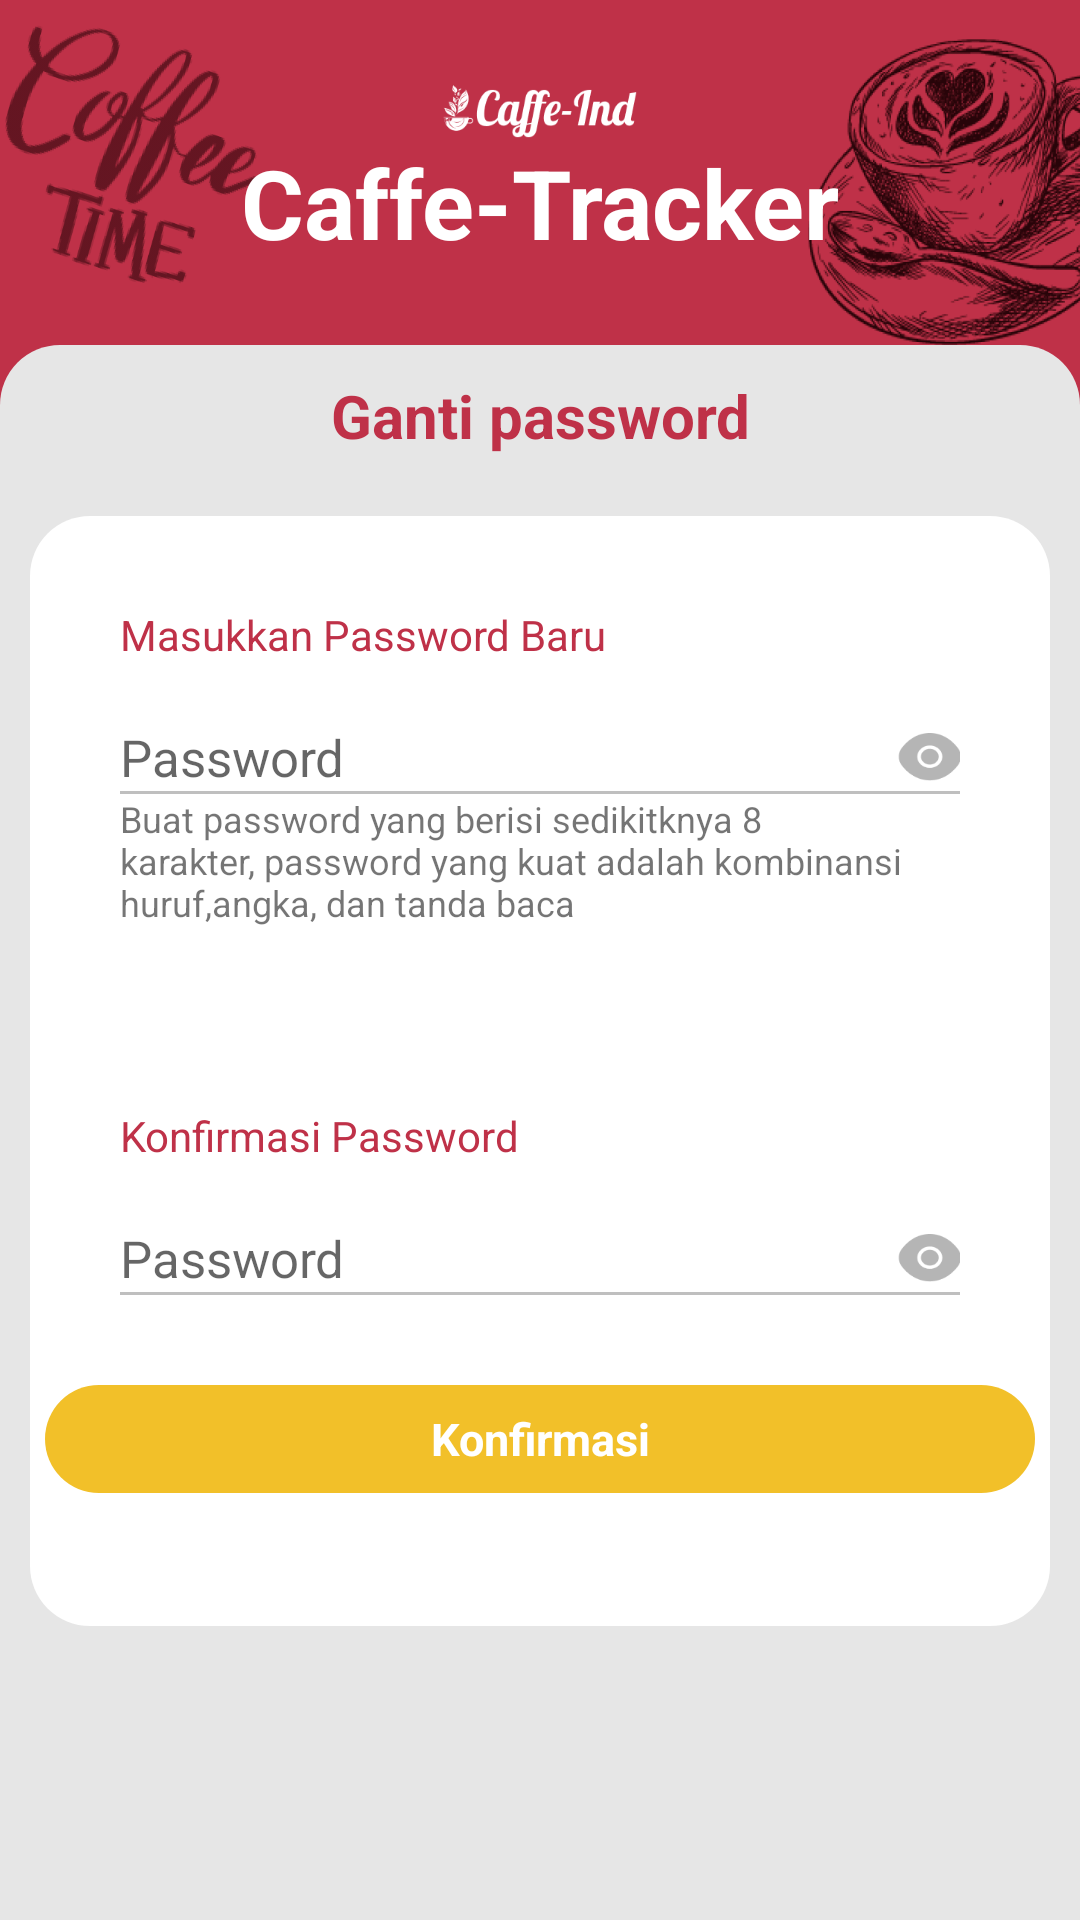

Point at icon controls on the screen. Image size 1080 × 1920, points as point (x, y).
visible: point (929, 756), point (929, 1257)
